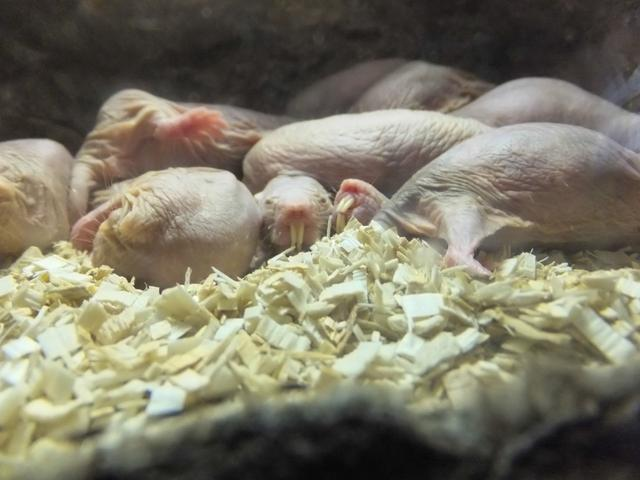mouse: (60, 157, 271, 289), (220, 143, 346, 306)
